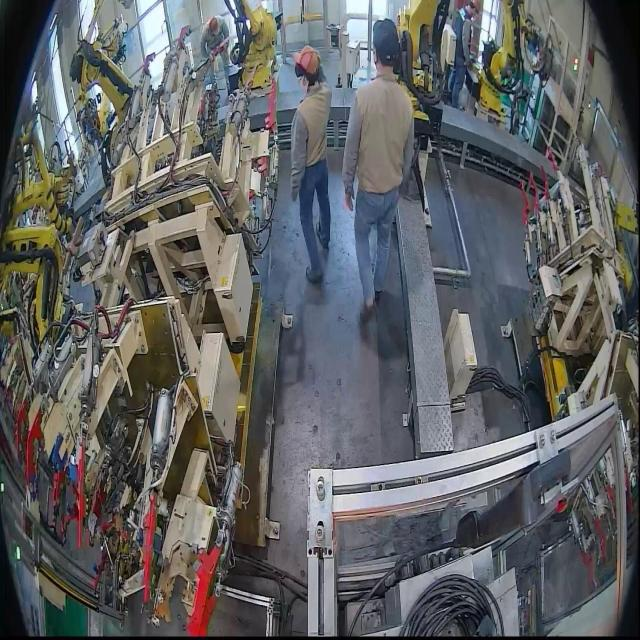Person: (341, 18, 415, 316), (289, 45, 332, 284), (448, 0, 480, 109), (199, 14, 230, 100)
